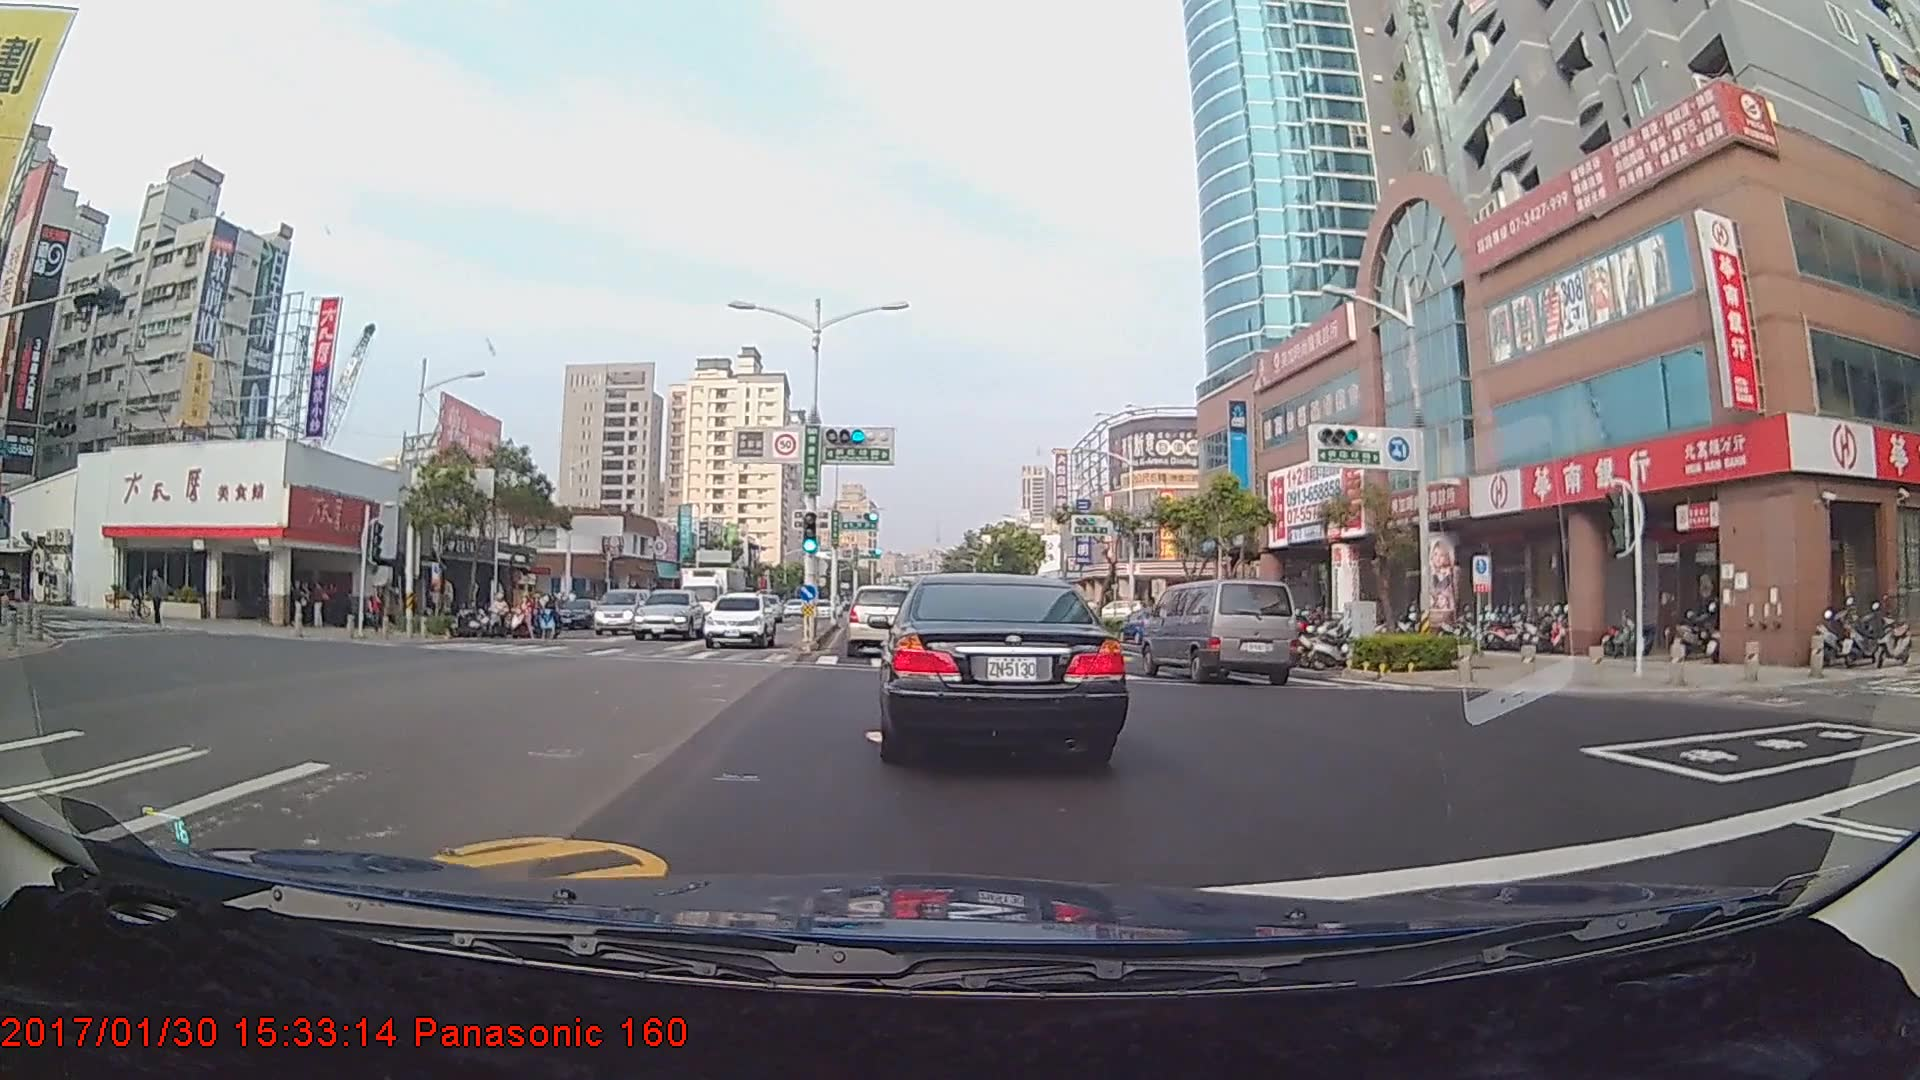pedestrian: (146, 569, 169, 626), (291, 579, 311, 633), (308, 580, 328, 629)
vehicle: (875, 567, 1124, 765), (1136, 575, 1298, 686), (844, 581, 922, 656), (678, 560, 750, 633), (702, 592, 777, 649), (632, 589, 704, 641), (590, 585, 651, 636)
